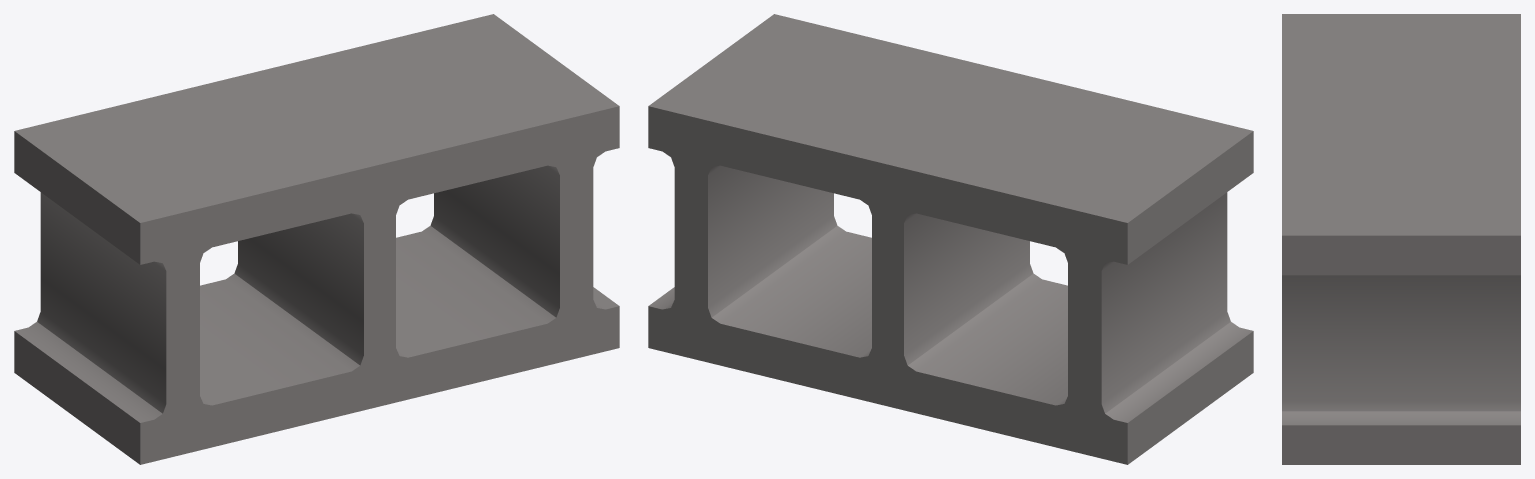
Rendered from CinderBlock.gltf.
The picture shows the model from 3 angles, left to right: view 1: azimuth 30°, elevation 25°; view 2: azimuth 150°, elevation 25°; view 3: azimuth 270°, elevation 25°; orthographic projection. The views are drawn at different scales.
Visible parts, largest first — view 1: CinderBlock; view 2: CinderBlock; view 3: CinderBlock.
Boxes of the visible parts, box(x1,y1,x2,y2) form: CinderBlock: box(14, 14, 619, 464); CinderBlock: box(648, 14, 1253, 464); CinderBlock: box(1282, 14, 1520, 464).
Size of the model in its own units: 0.4716 by 0.2274 by 0.2145.
Materials: 1 (1 with a texture image).
